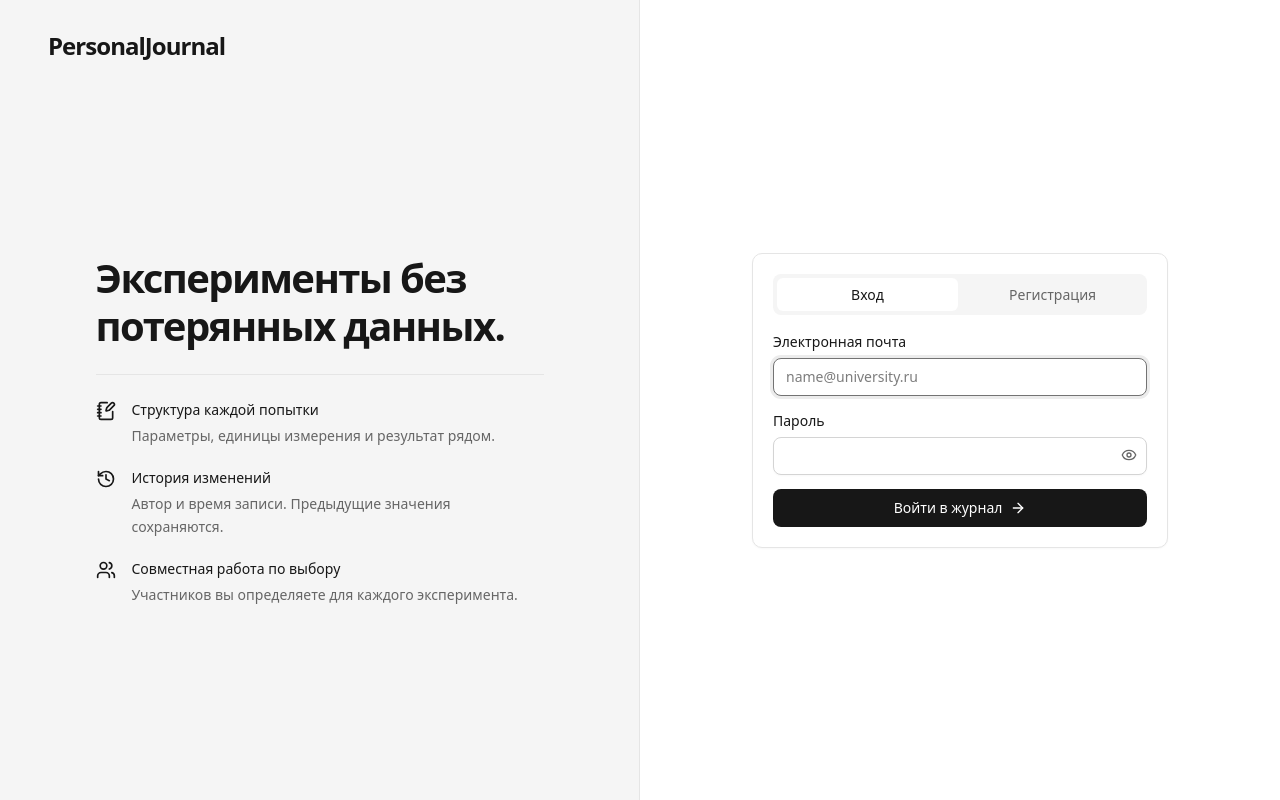
Test: Authentication boundary › renders a duplicate signup conflict as plain error text and preserves the entered fields
Step 1. Press Enter in the tab "Регистрация", box left=962, top=278, right=1143, bottom=310
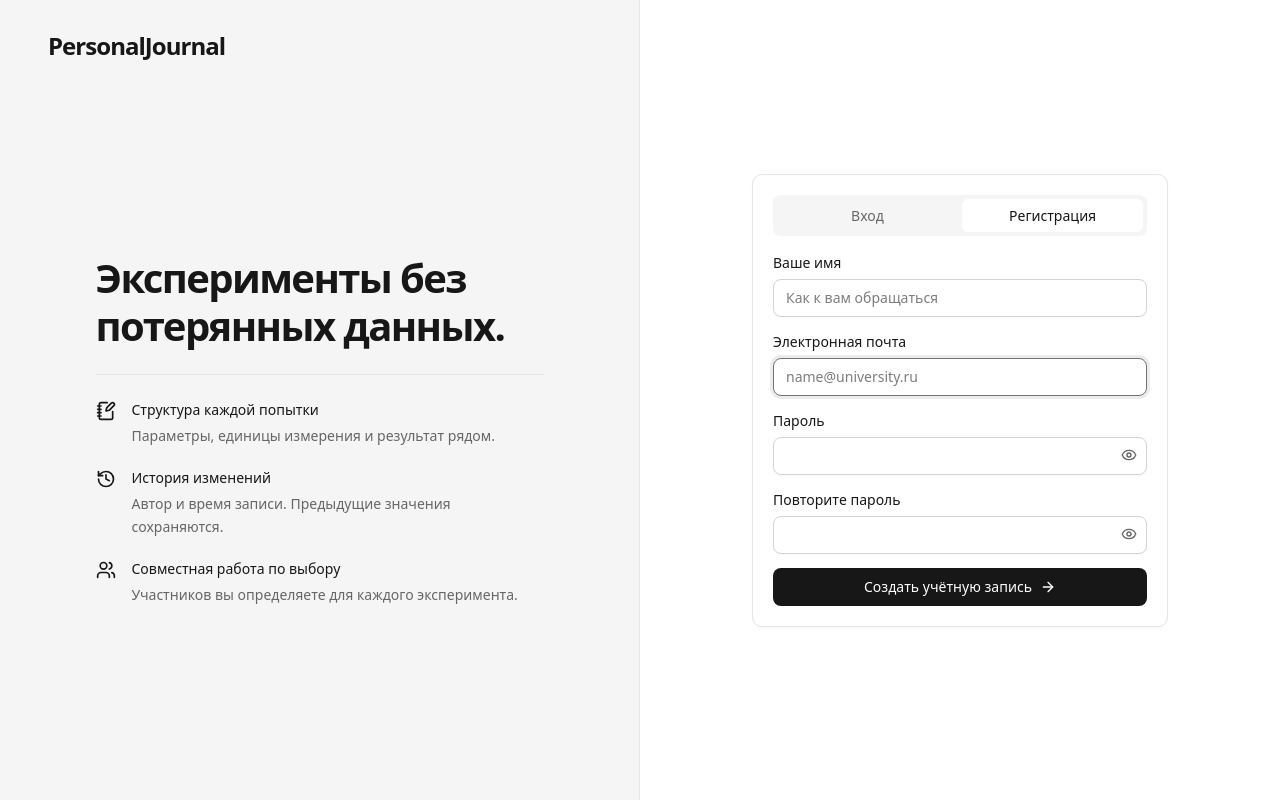
Step 2. Type "Анна" into the field labelled "Ваше имя" → x=960, y=298, box left=773, top=278, right=1147, bottom=316
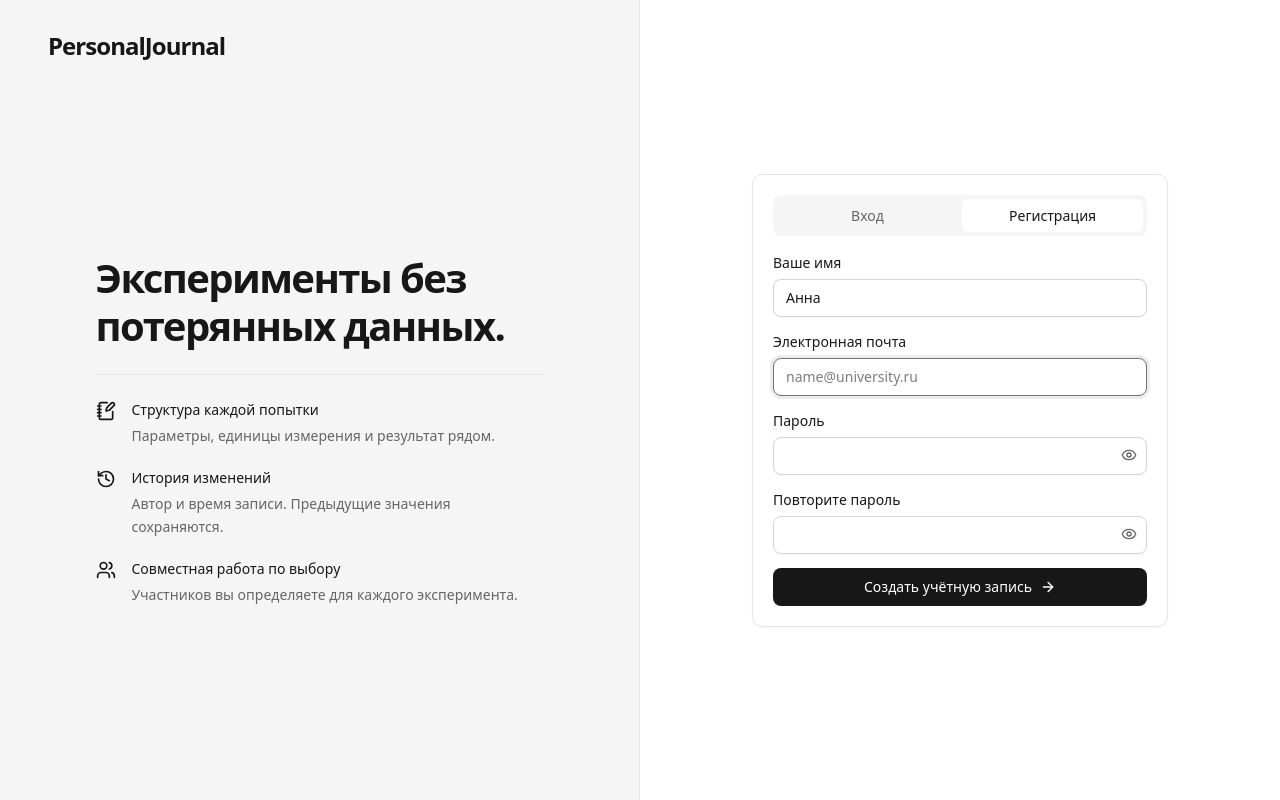
Step 3. Type "anna@example.test" into the field labelled "Электронная почта" → x=960, y=376, box left=773, top=358, right=1147, bottom=396
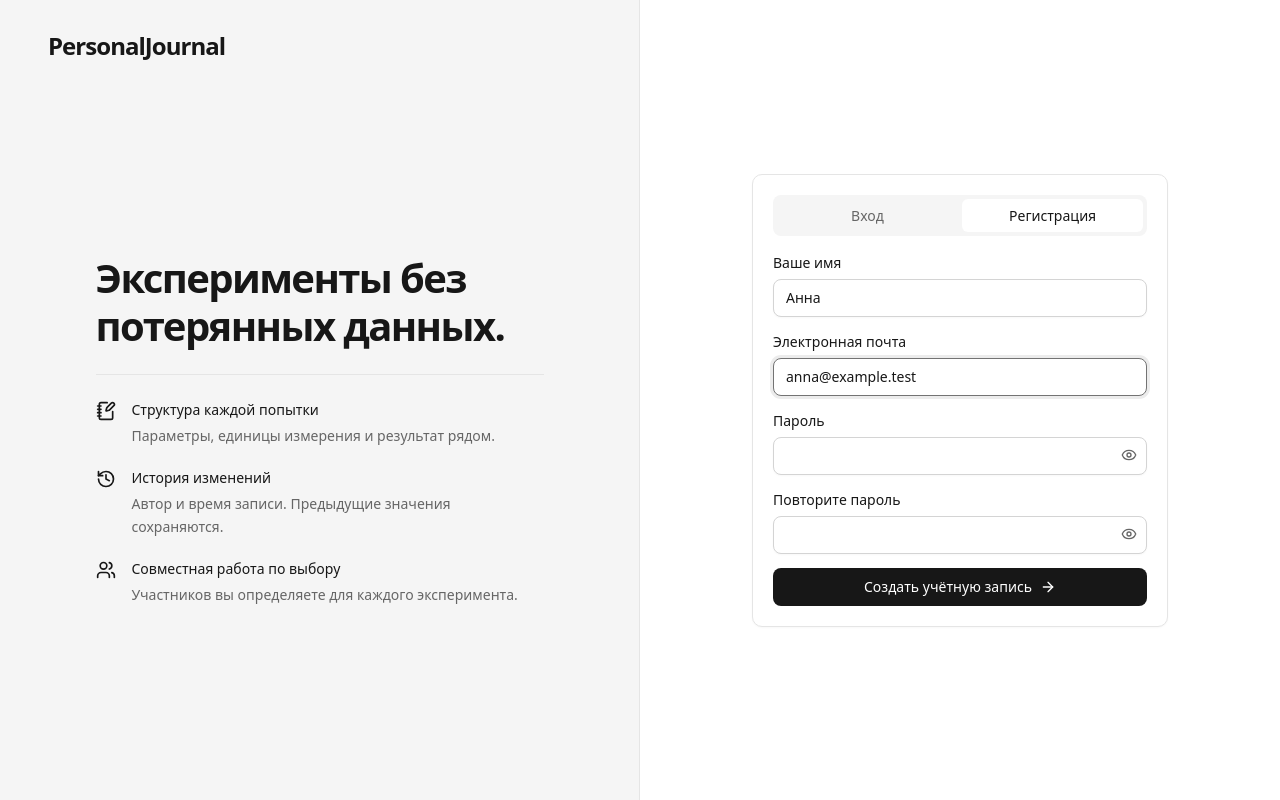
Step 4. Type "123456789" into the password field labelled "Пароль" → x=960, y=456, box left=773, top=436, right=1147, bottom=474
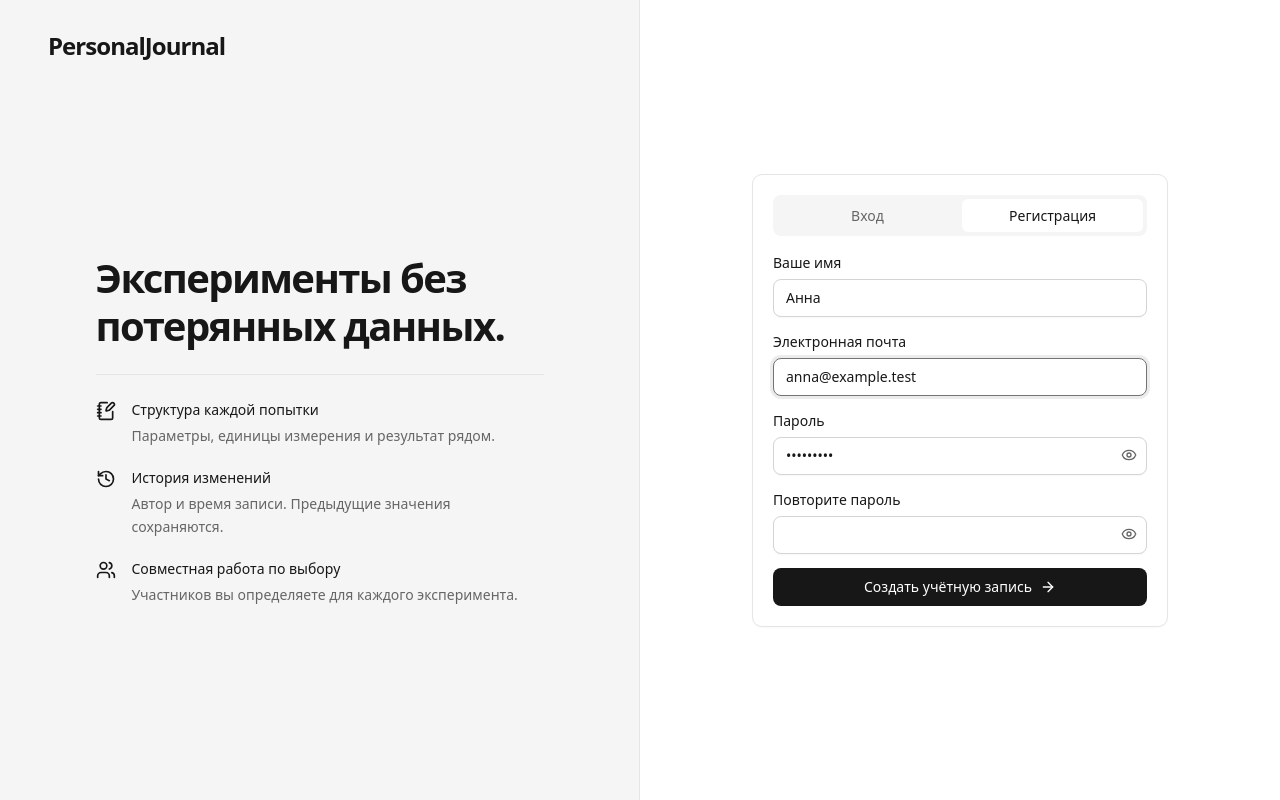
Step 5. Type "123456789" into the password field labelled "Повторите пароль" → x=960, y=534, box left=773, top=516, right=1147, bottom=554
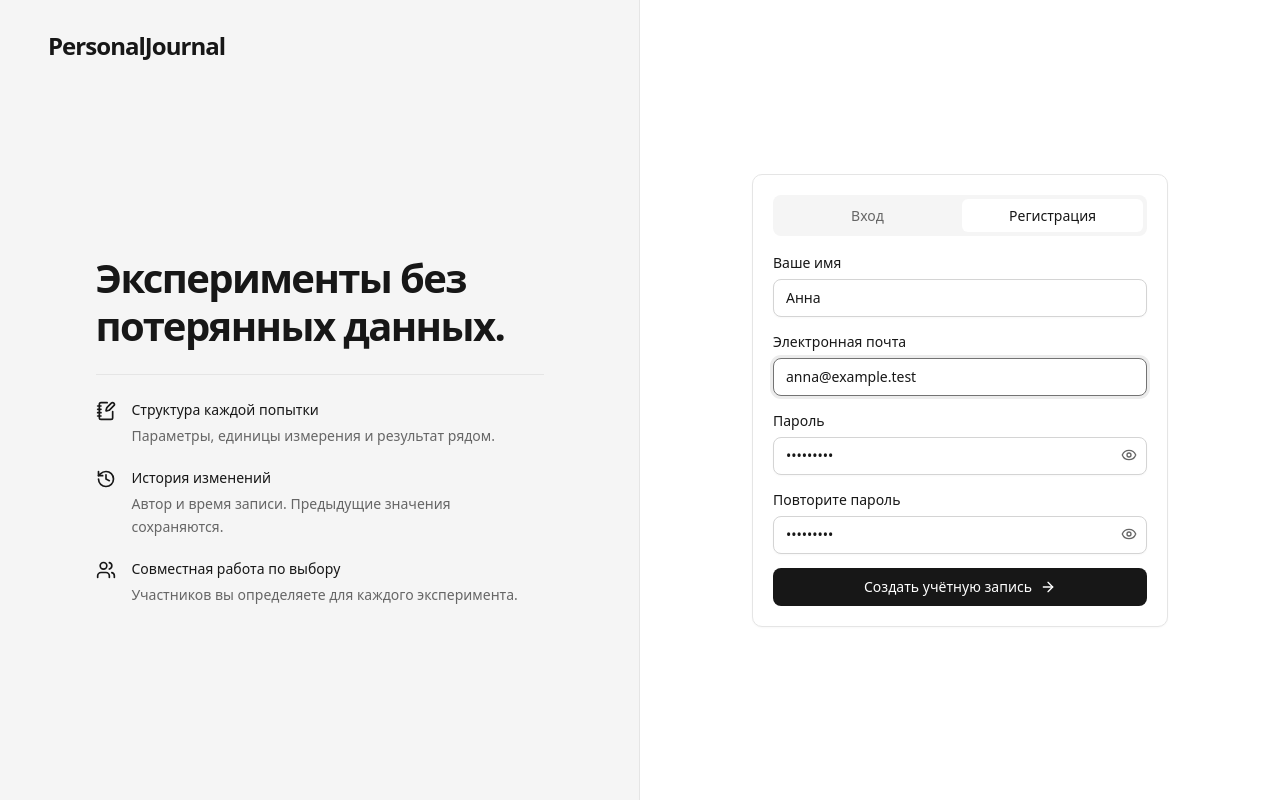
Step 6. Click the button "Создать учётную запись" → x=960, y=586, box left=773, top=568, right=1147, bottom=606
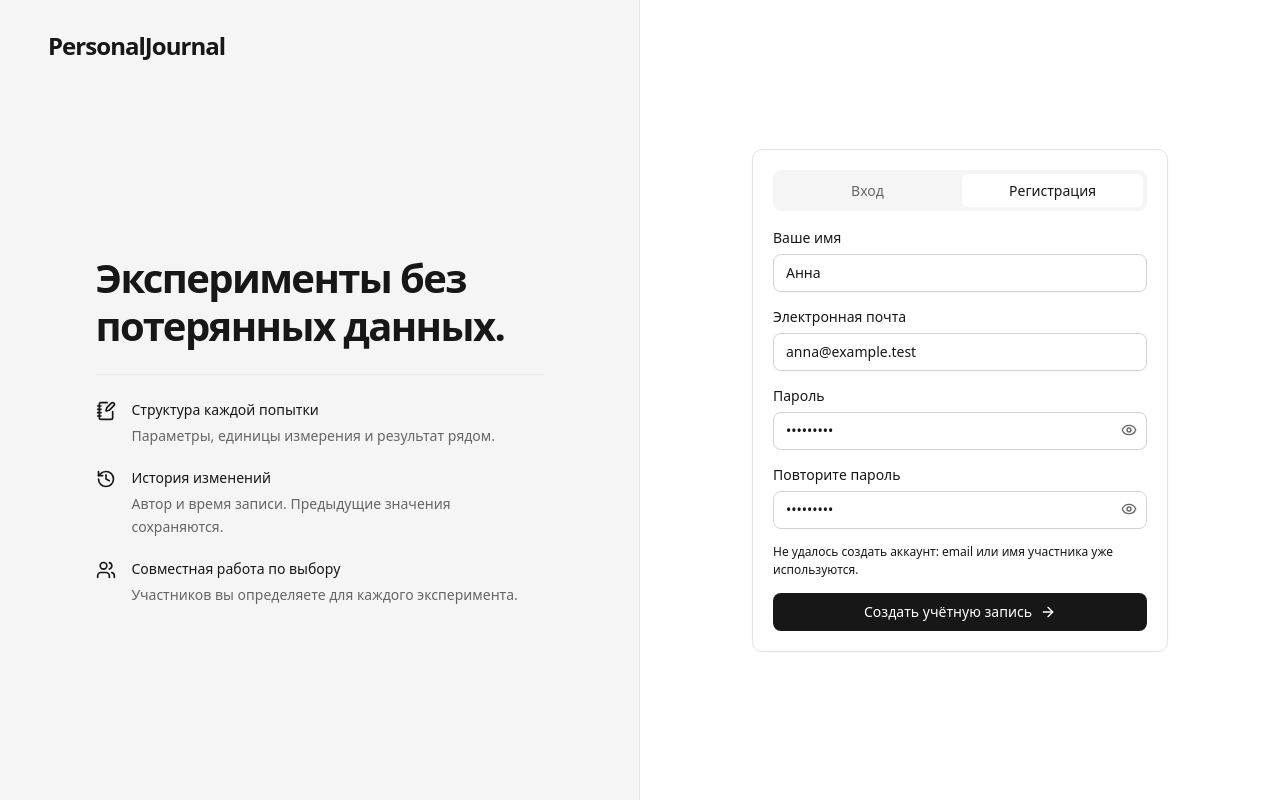
Expected: the message reads "Не удалось создать аккаунт: email или имя участника уже используются.", left=773, top=542, right=1113, bottom=578
